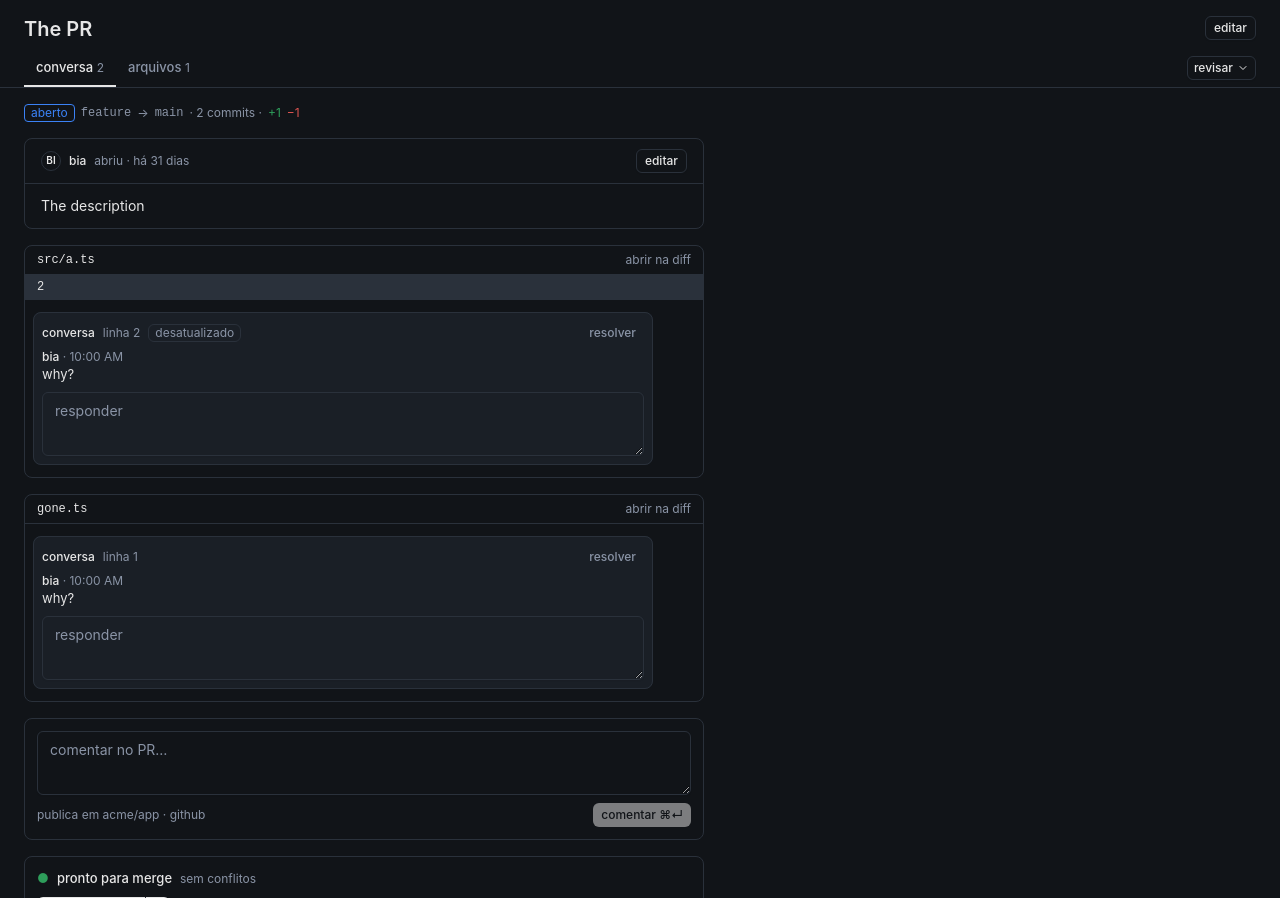
Test: an outdated conversation sits at the top of its file; one whose file left the diff sits in fora do diff at the top (#592, #758)
This screenshot has width=1280, height=898.
Step 1. Click the tab "arquivos 1" → {"x": 159, "y": 68}, box [116,50,202,87]
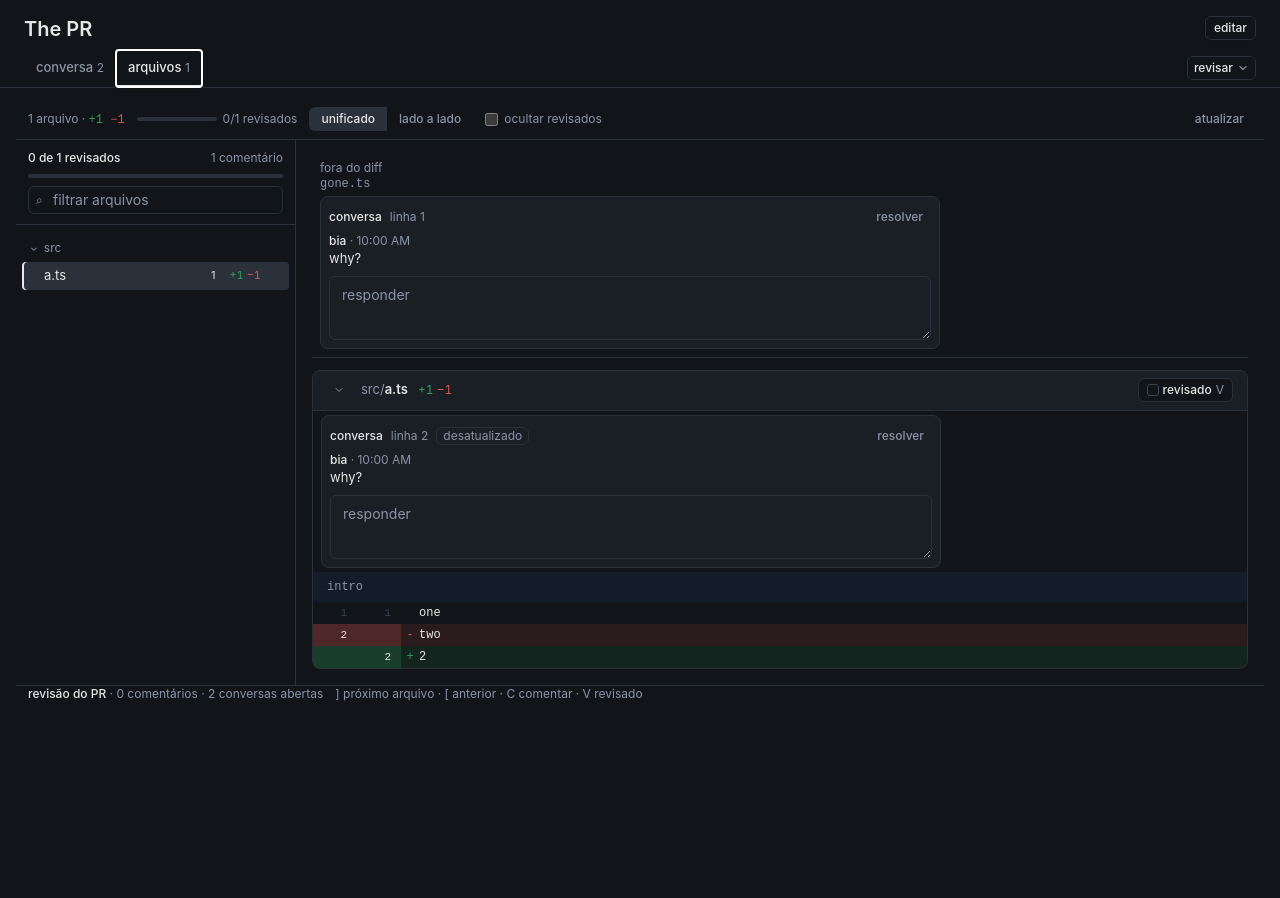
Expected: the element "conversa" is shown, [320,196,940,349]
Now the element "conversa" shows "desatualizado", box [443,428,522,443]
Now the element "fora do diff" shows "gone.ts", box [320,177,370,191]
